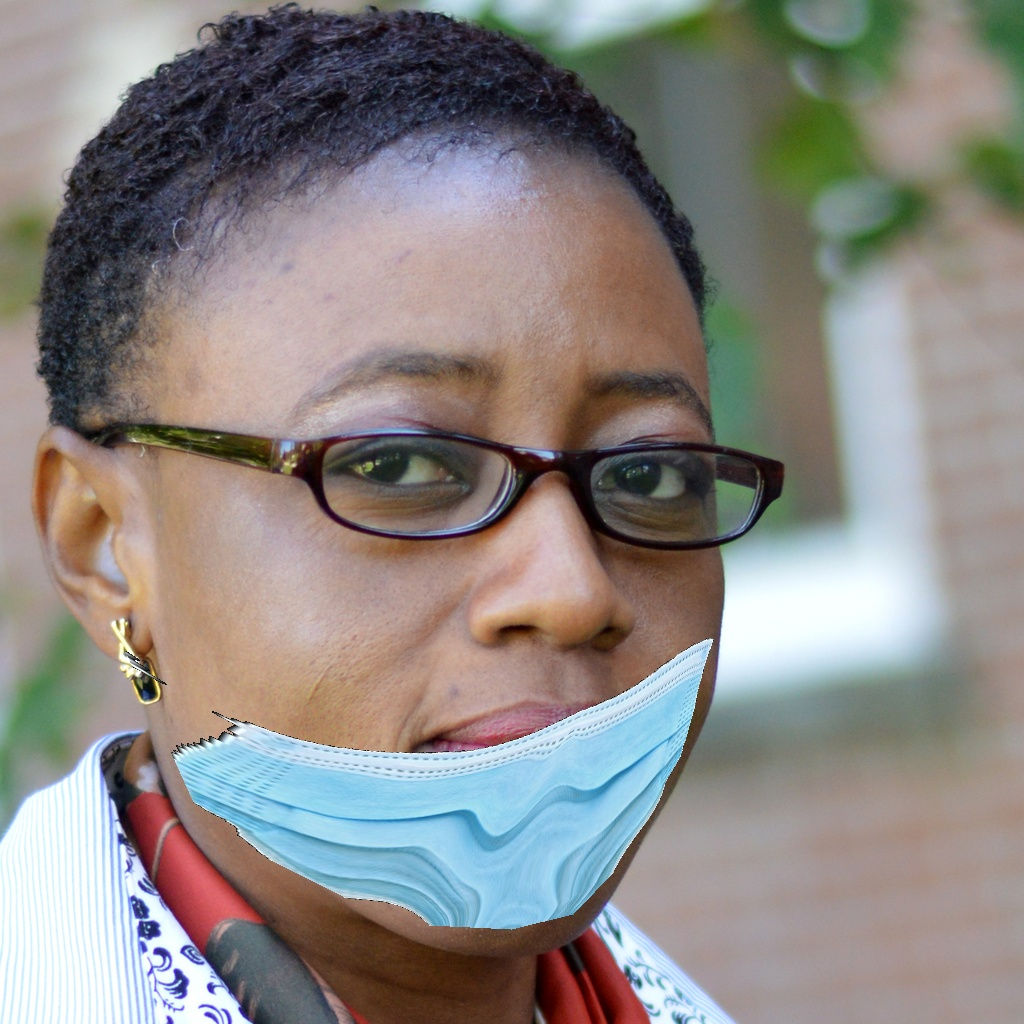mask_weared_incorrect: (194, 308, 740, 954)
